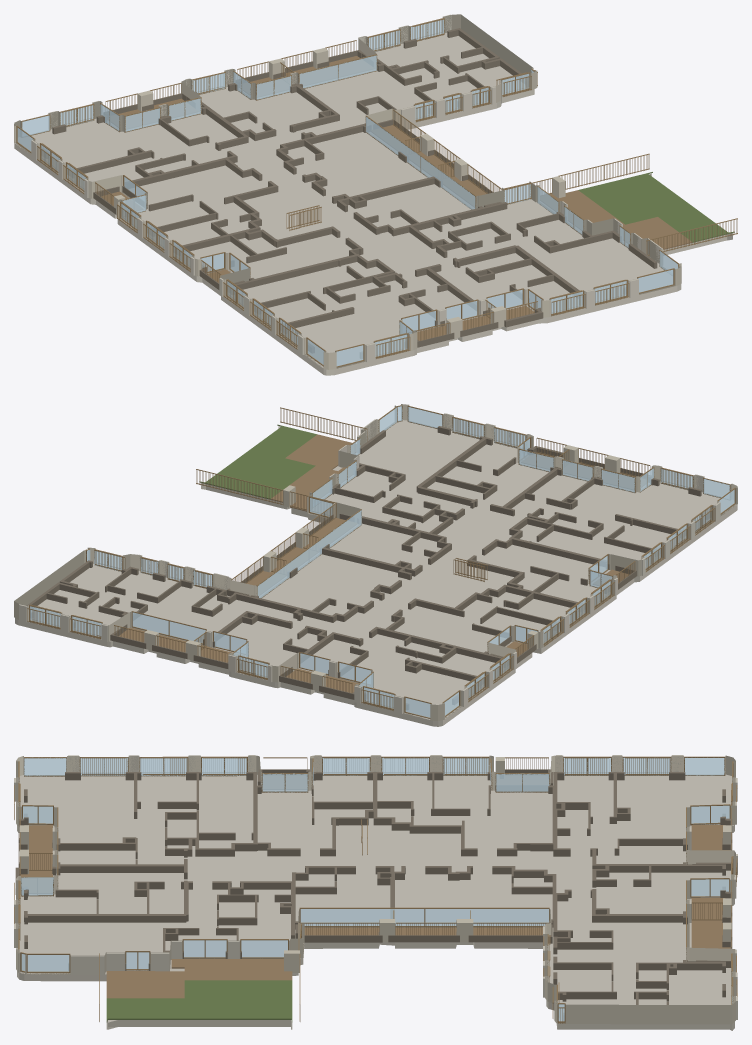
3 renders of one model, top to bottom at view 1: azimuth 30°, elevation 25°; view 2: azimuth 150°, elevation 25°; view 3: azimuth 270°, elevation 25°, orthographic. The views are drawn at different scales.
Size of the model in its own units: 31.94 by 1.57 by 39.
